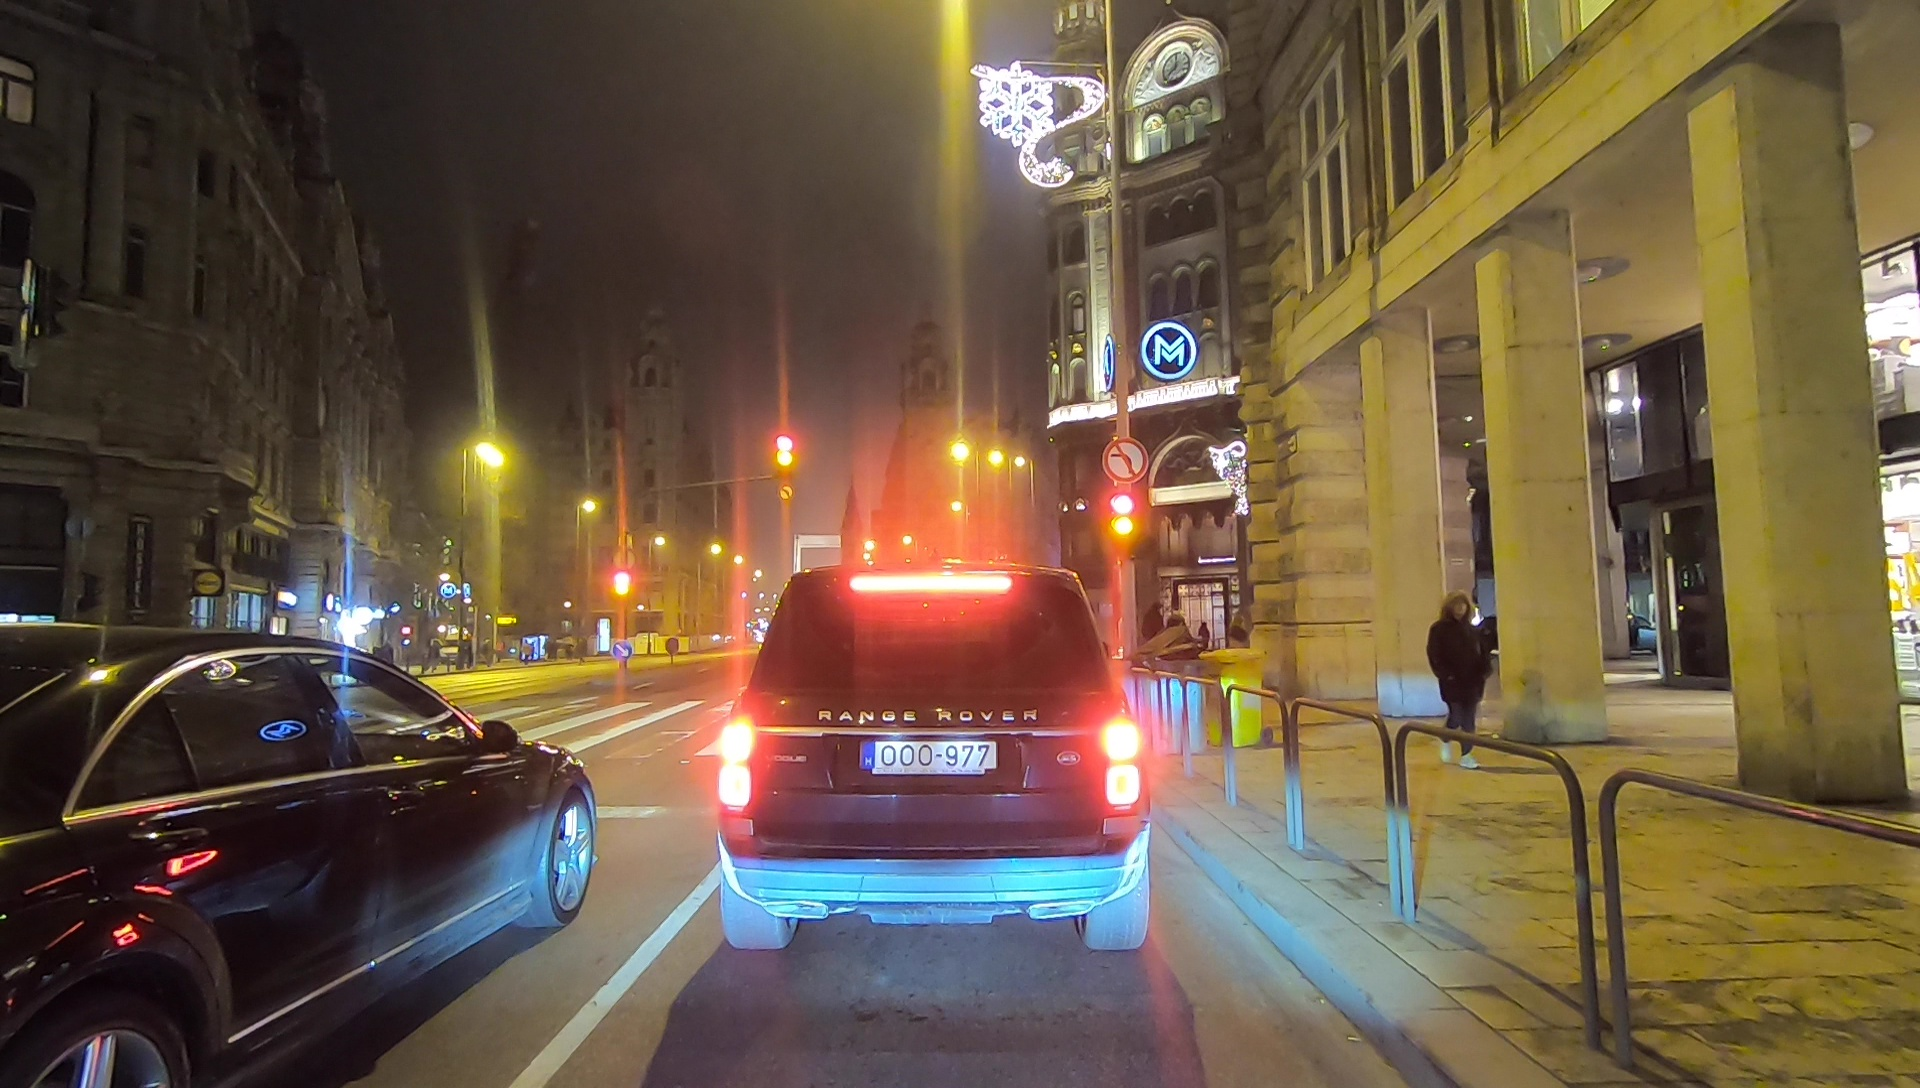person: (1434, 595, 1495, 767)
